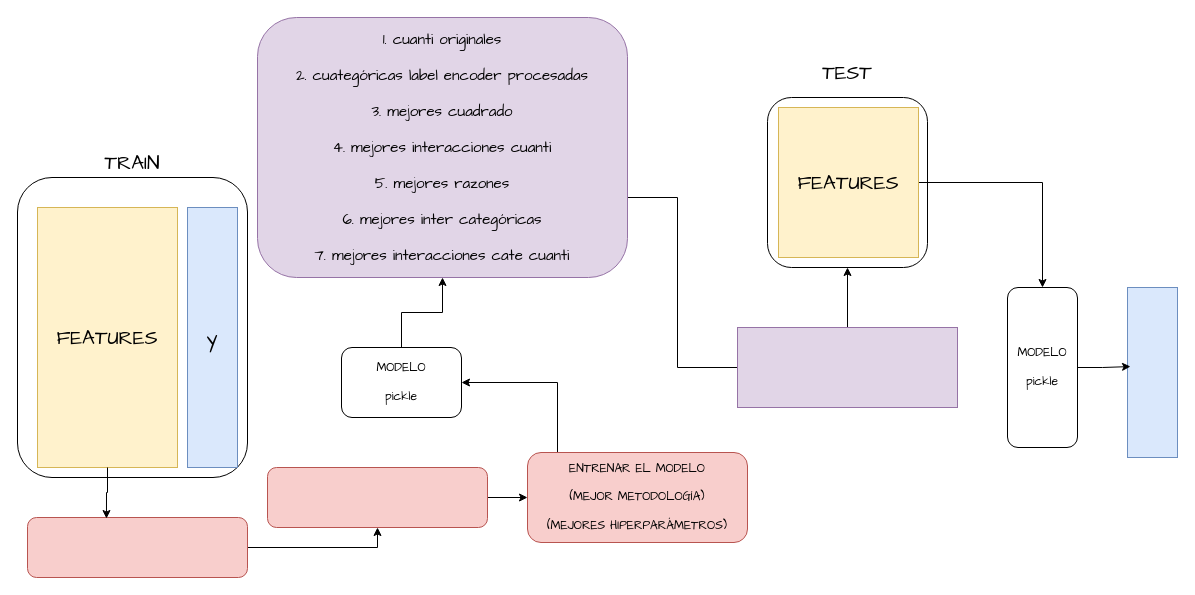
This 1195x595 diagram has some shape labels left out. Here are the shapes that lost their labels. From the top down, the centre of each, then its label:
At point (847, 367): "Construir las mismas variables de entrenamiento".
At point (1152, 372): "y hat".
At point (377, 497): "SELECCIÓN DE VARIABLES".
At point (137, 547): "FEATURE ENGINNERING".
